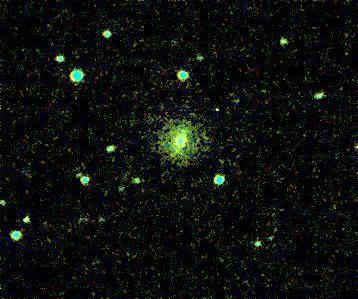star: (159, 142, 189, 172)
